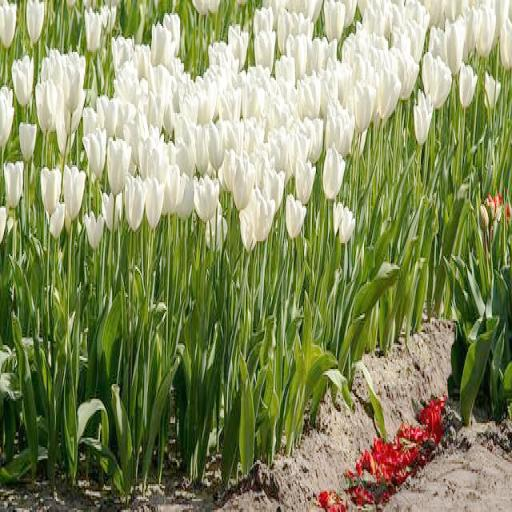tulip: (107, 136, 131, 190), (412, 85, 434, 143), (163, 154, 184, 213), (64, 52, 84, 111), (194, 174, 220, 219), (323, 146, 345, 196), (354, 78, 375, 130), (125, 176, 146, 224), (82, 130, 106, 172), (234, 154, 254, 204), (445, 18, 464, 70), (145, 176, 166, 223), (12, 58, 34, 102), (37, 82, 57, 130), (65, 167, 84, 217), (3, 163, 24, 206), (208, 122, 226, 169), (295, 156, 315, 198), (254, 30, 276, 68), (153, 22, 171, 67), (286, 193, 306, 232), (98, 91, 116, 132), (42, 169, 60, 208), (85, 10, 99, 44)
